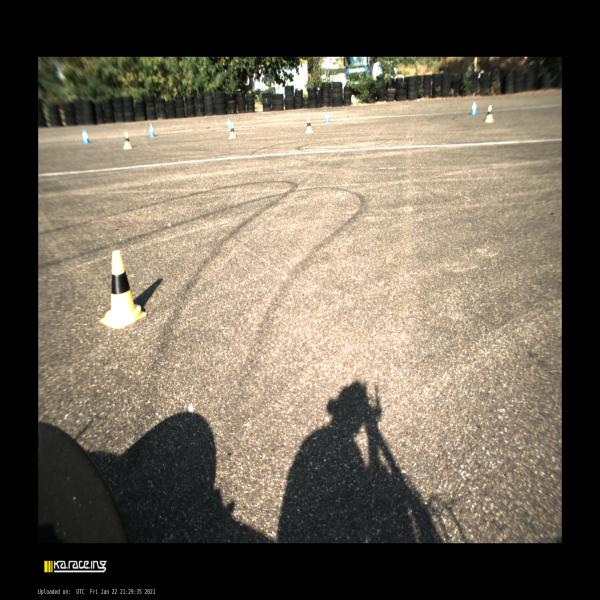blue_cone: (82, 130, 91, 144), (470, 101, 477, 115), (149, 124, 155, 137), (324, 111, 330, 123), (227, 118, 230, 130)
yellow_cone: (100, 250, 146, 329), (484, 106, 494, 122), (123, 132, 132, 149), (305, 117, 313, 133), (228, 123, 236, 138)
